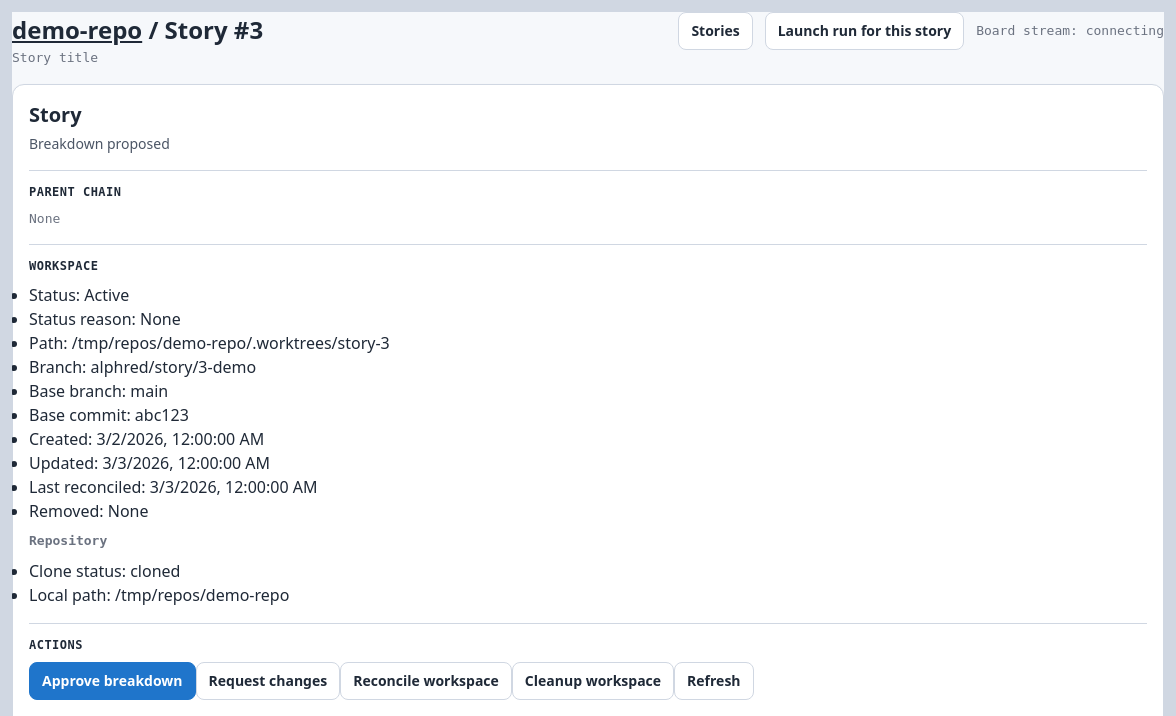
Test: StoryDetailPageContent › refreshes story state when request-change moves hit a revision conflict
Click the button "Request changes" at (268, 680), box [196,662,340,700]
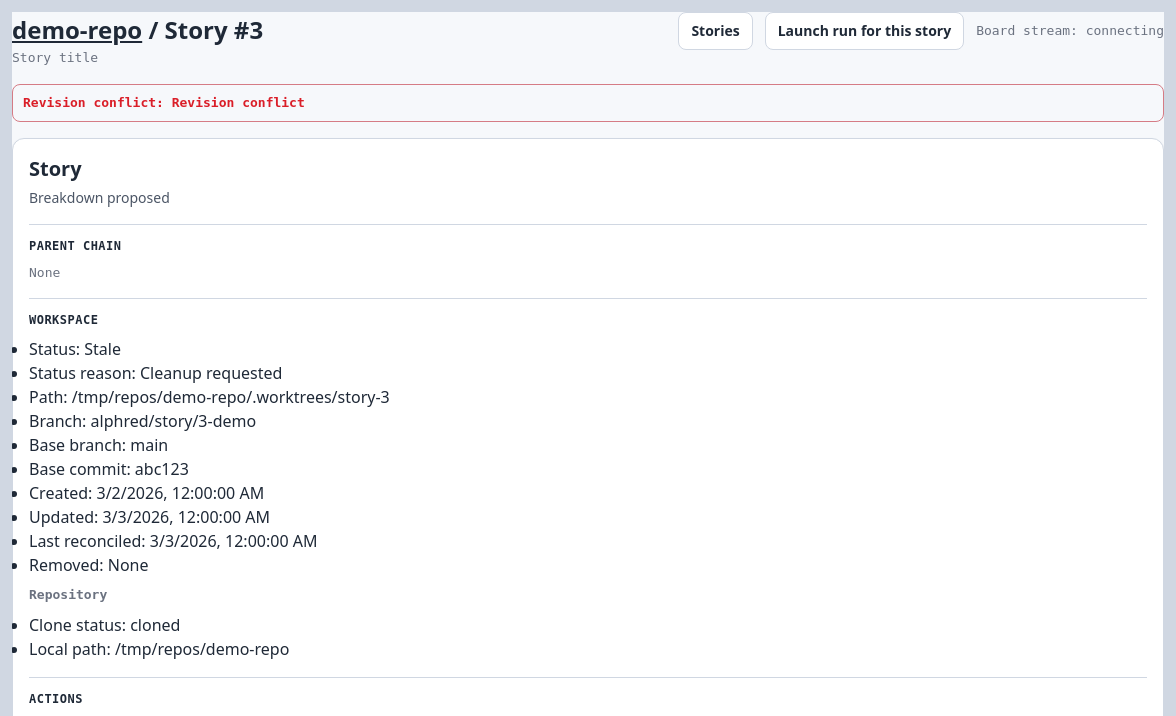
Expected: the message reads "Revision conflict: Revision conflict", [23,94,305,110]
Expected: the list item "Status reason: Cleanup requested" is shown, [29,362,282,384]
